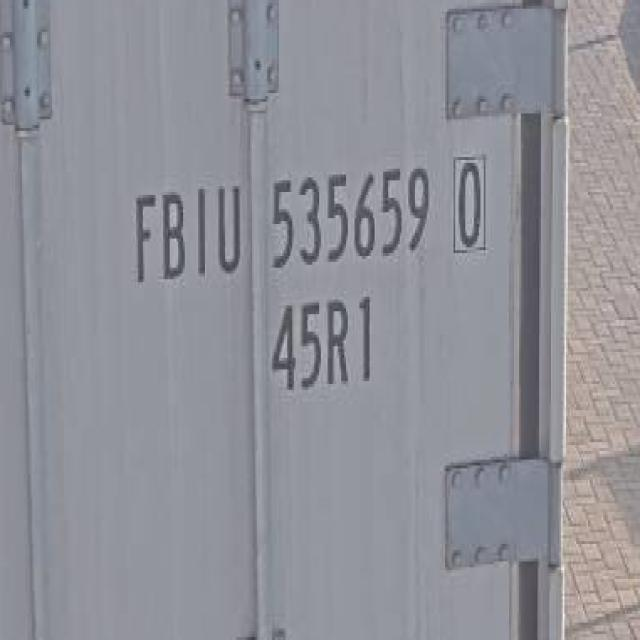dv: (445, 148, 489, 265)
owner: (128, 162, 252, 302)
serial: (266, 160, 437, 277)
size: (264, 290, 376, 398)
